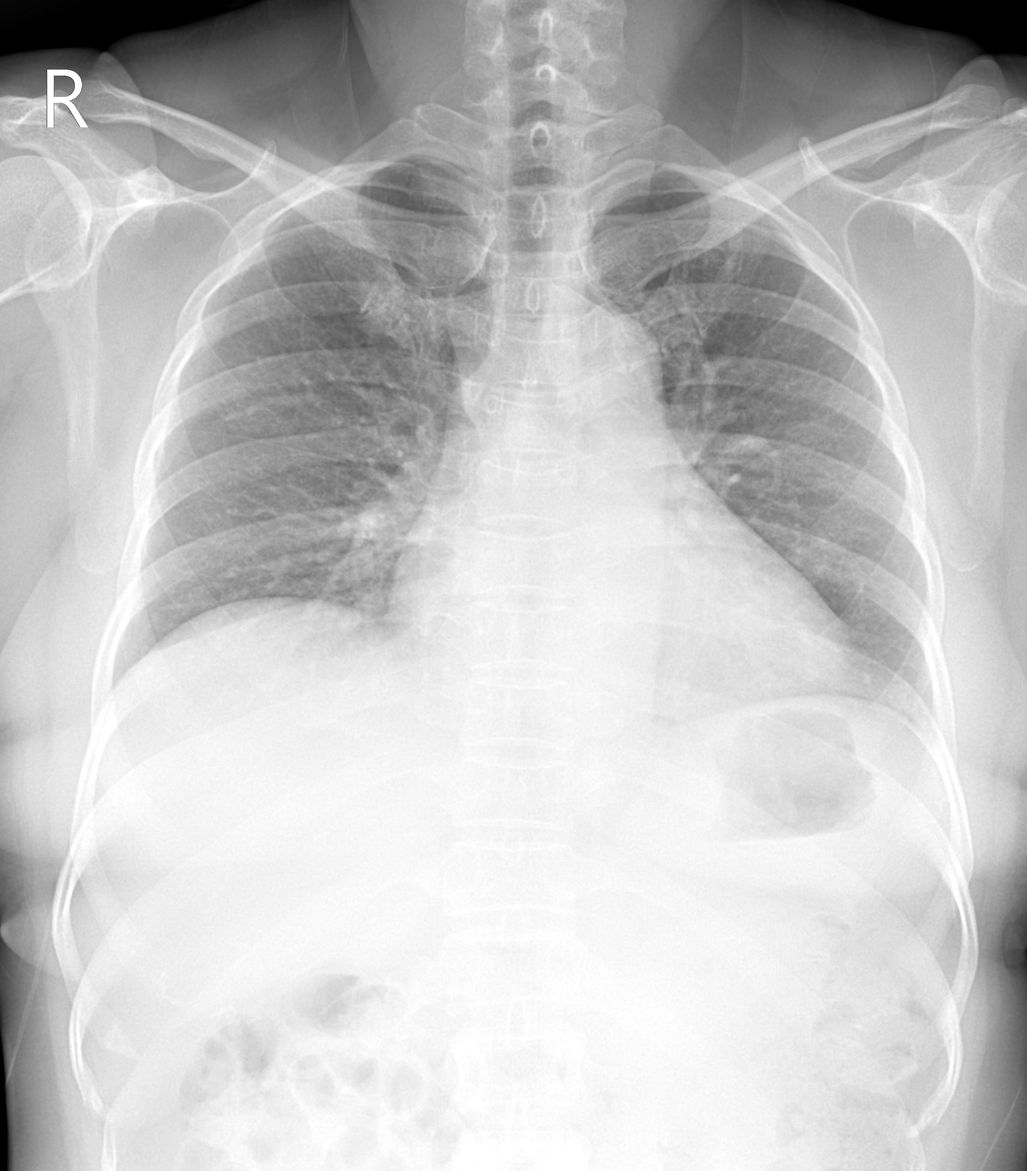Cardiomegaly: (382, 564, 861, 691)
